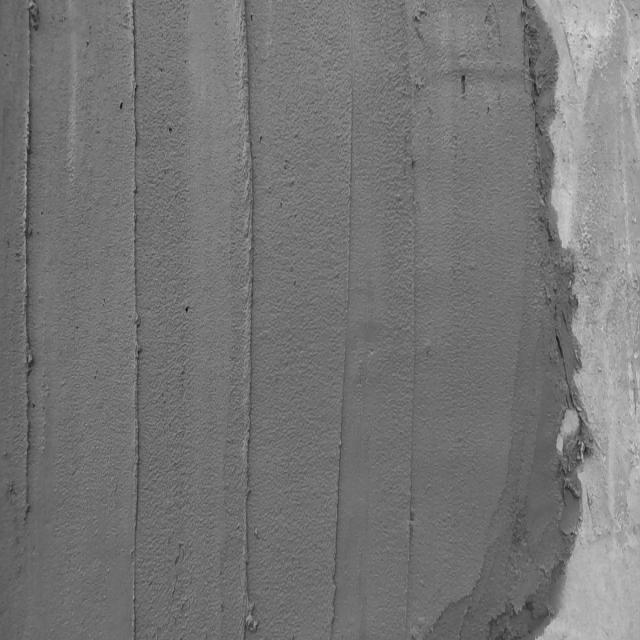trowels marks: (322, 106, 349, 638), (237, 0, 257, 637), (126, 9, 144, 633), (16, 4, 36, 516), (404, 344, 421, 628)
